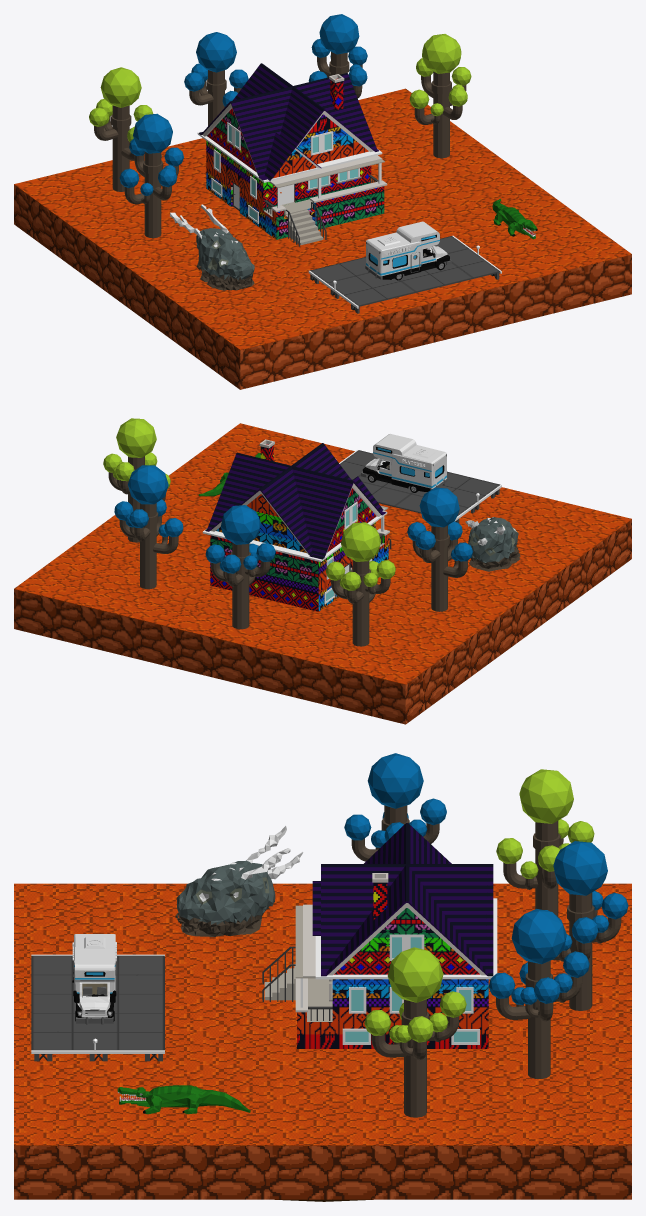
3 renders of one model, top to bottom at view 1: azimuth 30°, elevation 25°; view 2: azimuth 150°, elevation 25°; view 3: azimuth 270°, elevation 25°, orthographic. The views are drawn at different scales.
Visible parts, largest first — view 1: Cube.001, Cube.966, VEHICLES_CAMPER, OBJRANDOM_METEORITE, ANIMAL_COCODRILO; view 2: Cube.001, Cube.966, VEHICLES_CAMPER, OBJRANDOM_METEORITE; view 3: Cube.001, Cube.966, OBJRANDOM_METEORITE, VEHICLES_CAMPER, ANIMAL_COCODRILO.
Part boxes in pixels (x1,y1,x2,y2): Cube.001: (14,14,631,389); Cube.966: (197,63,387,246); VEHICLES_CAMPER: (365,221,451,280); OBJRANDOM_METEORITE: (170,204,254,290); ANIMAL_COCODRILO: (492,198,537,239); Cube.001: (14,418,631,724); Cube.966: (202,439,391,611); VEHICLES_CAMPER: (361,434,447,492); OBJRANDOM_METEORITE: (465,517,520,571); Cube.001: (14,753,631,1199); Cube.966: (262,823,497,1048); OBJRANDOM_METEORITE: (175,826,303,936); VEHICLES_CAMPER: (72,934,116,1024); ANIMAL_COCODRILO: (117,1085,250,1114).
Bounding box in the file's own units: 4000 × 1730 × 4000.
Materials: 42 (8 with a texture image).
